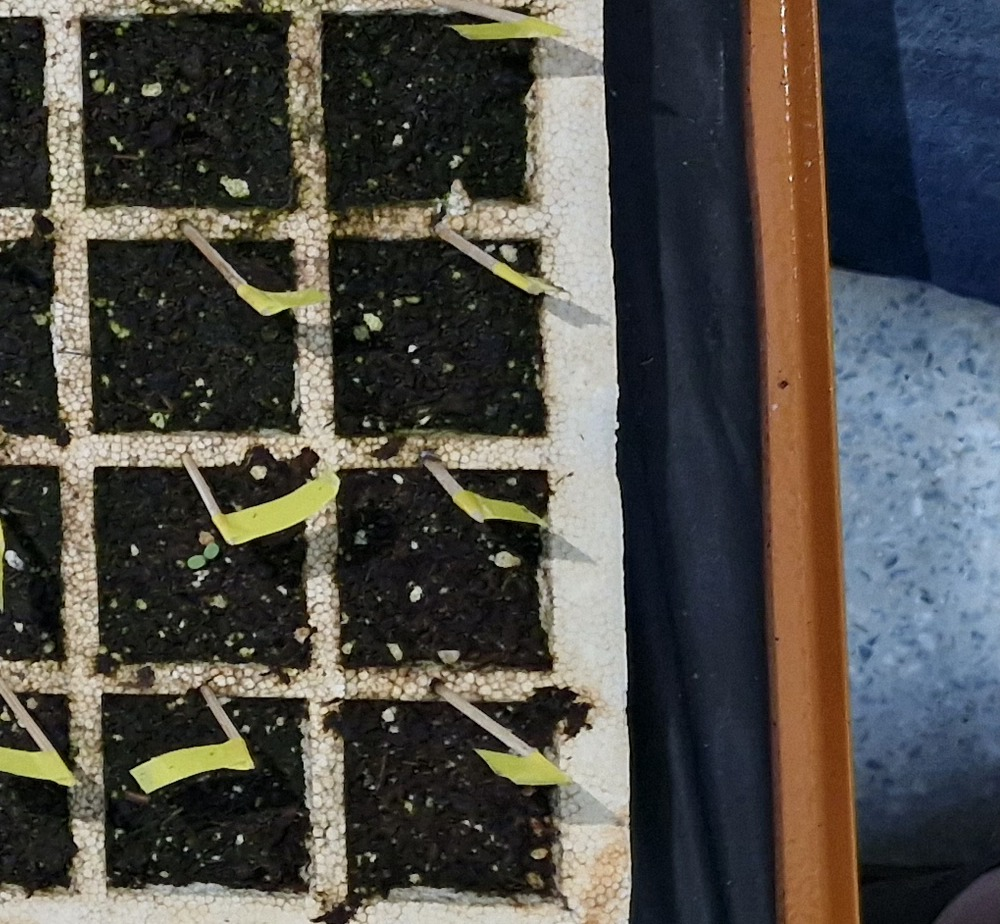Folha: (188, 555, 206, 569), (203, 544, 219, 559)
Germinacao: (188, 542, 219, 569)
